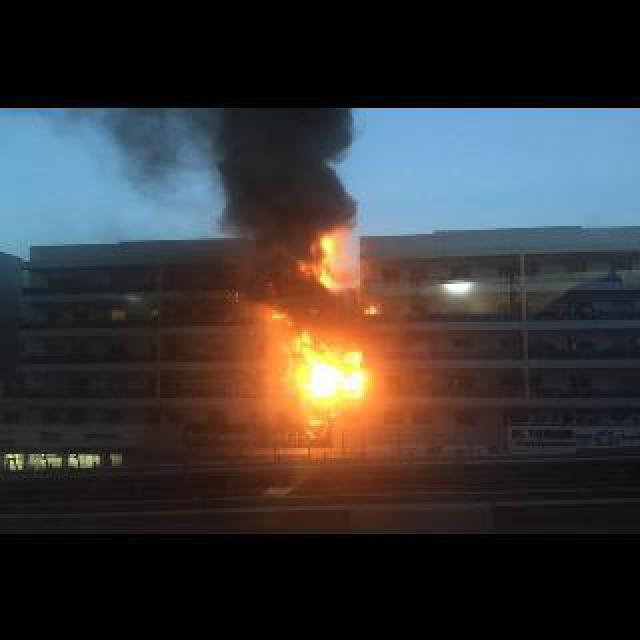Fire: (253, 230, 399, 441)
Smoke: (179, 106, 371, 260)
